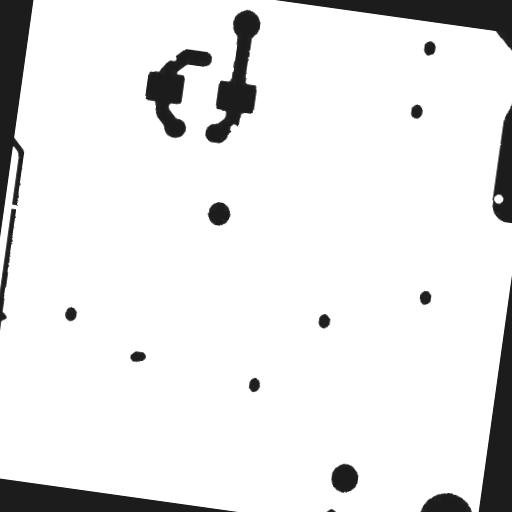copper: (121, 342, 155, 371)
mousebite: (221, 115, 246, 140), (160, 46, 184, 70)
open: (4, 196, 26, 218)
pin-hole: (485, 185, 512, 212)
spur: (0, 303, 15, 330)
